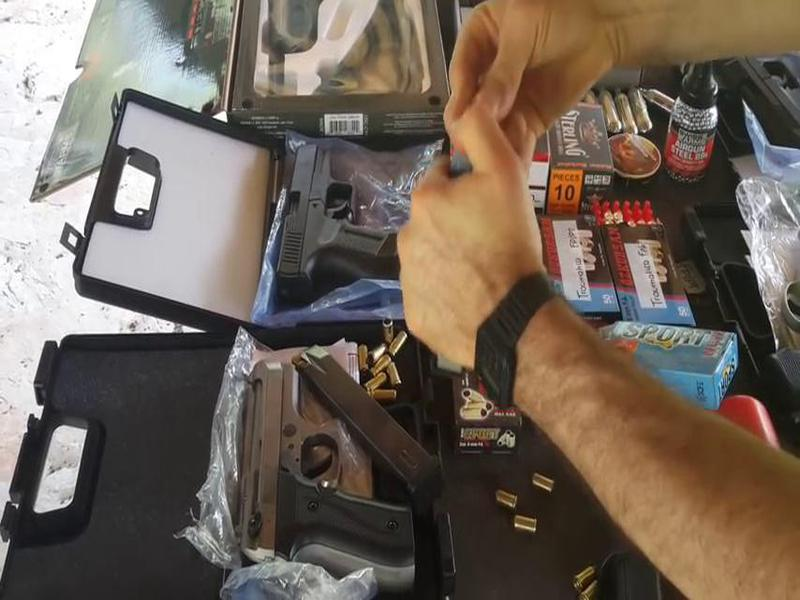Pistola: (236, 332, 444, 598), (270, 121, 432, 320)
